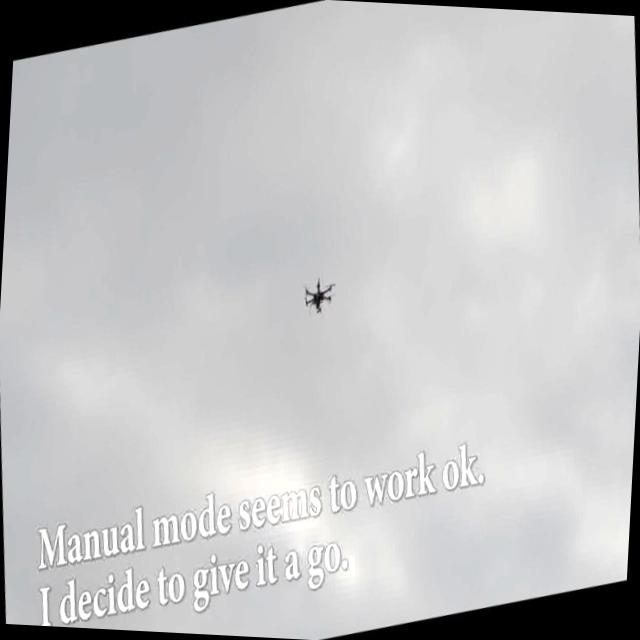drone: (299, 264, 338, 322)
